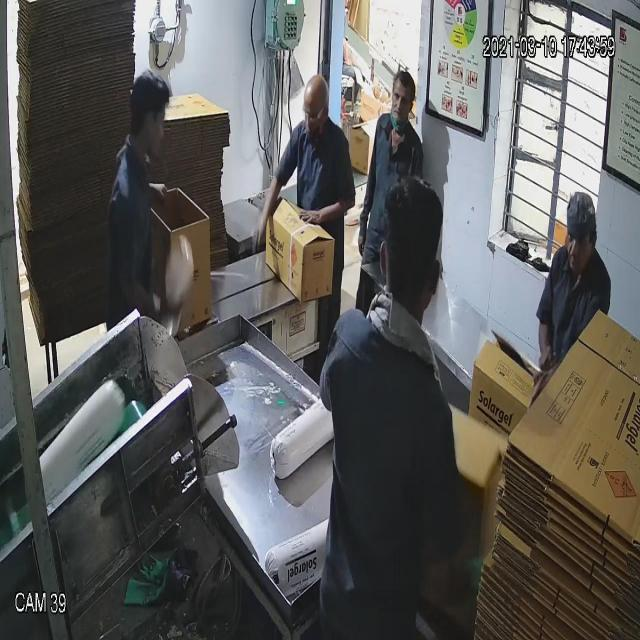No_Gloves: (49, 50, 326, 217)
